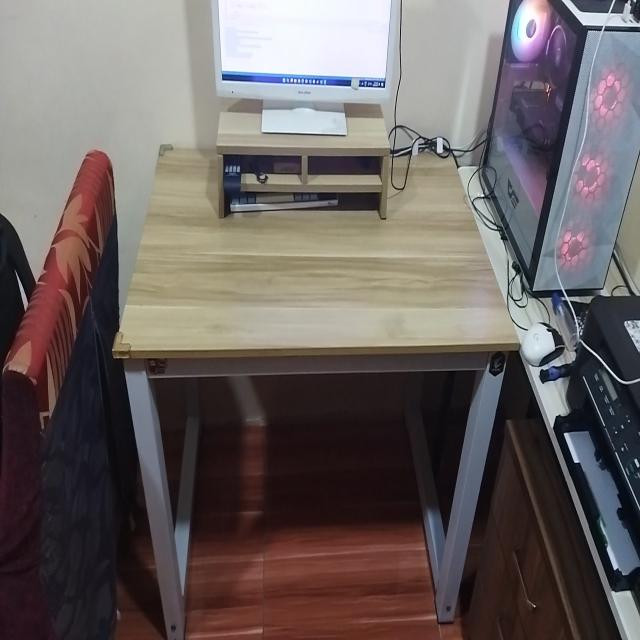table: (109, 126, 515, 640)
